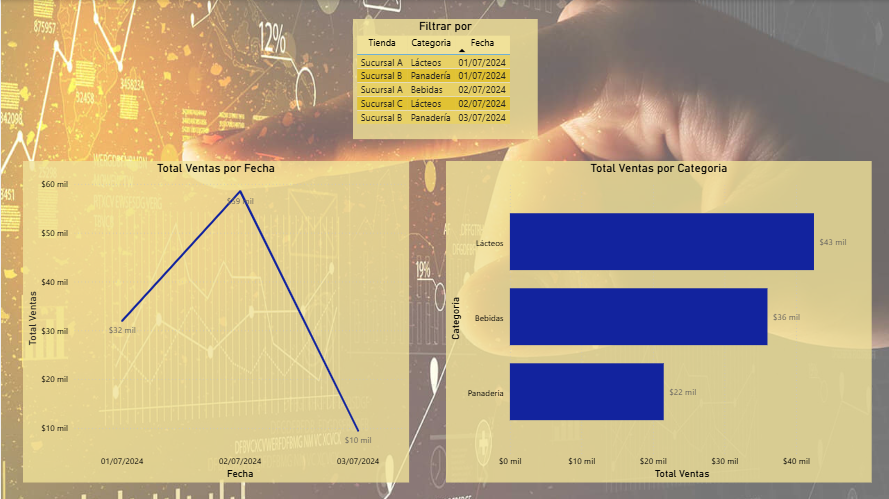

Layout of this report page (visuals, bound fields, positions):
{"tool":"powerbi","page":{"name":"Ventas","canvas":[1280,720],"ordinal":0},"visuals":[{"type":"barChart","fields":{"Category":["Inventario.Categoria"],"Y":["Calendario.Total Ventas"]},"box":[640.7,231.5,613,463],"z":0},{"type":"tableEx","title":"Filtrar por","fields":{"Values":["Inventario.Tienda","Inventario.Categoria","Calendario.Fecha"]},"box":[506.9,27.4,266.4,172.8],"z":1000},{"type":"lineChart","fields":{"Y":["Calendario.Total Ventas"],"Category":["Calendario.Fecha","Calendario.Año","Calendario.Mes","Calendario.Día"]},"box":[31.5,231.5,555.6,463],"z":2000}]}

Visuals, with their boxes in screenshot pixels (x1, y1, x2, y2), scaled from the page's 1280x720 canvas onto the 889x499 screenshot:
barChart - Inventario.Categoria x Calendario.Total Ventas: 445:160:871:481
"Filtrar por" tableEx: 352:19:537:139
lineChart - Calendario.Total Ventas x Calendario.Fecha: 22:160:408:481
